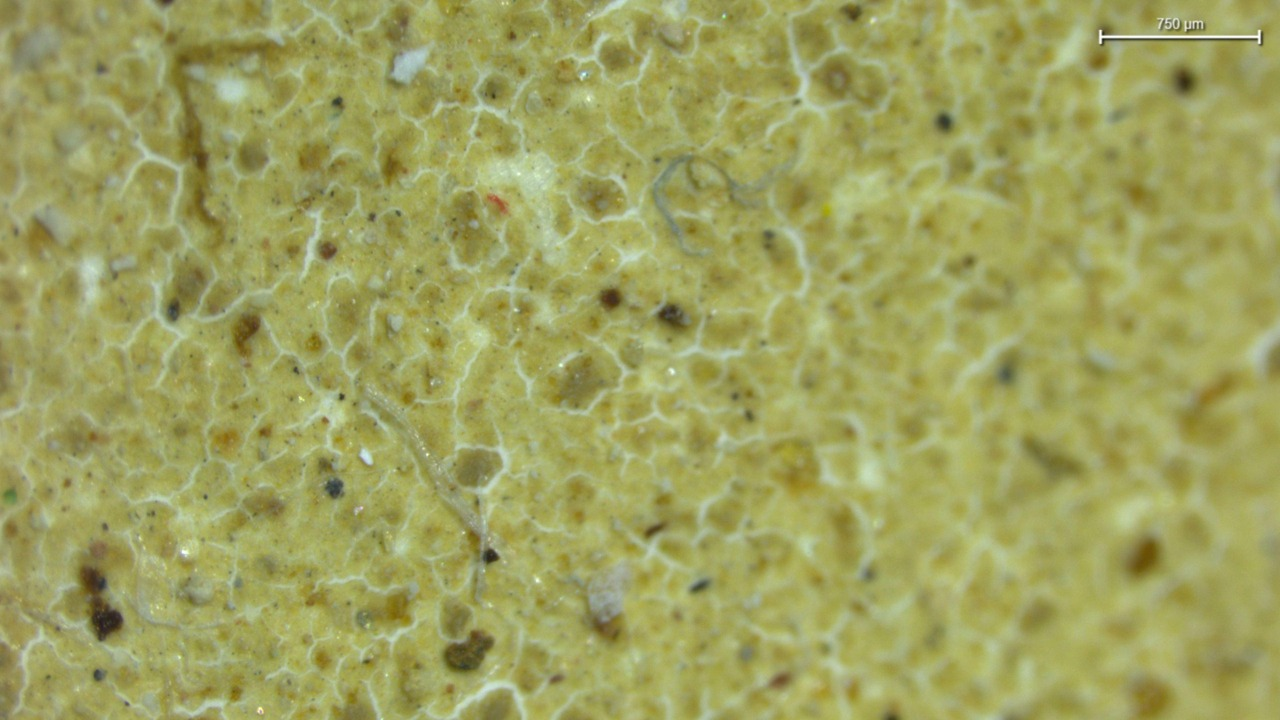microplastic_fragment: (588, 562, 630, 623), (389, 46, 428, 84)
